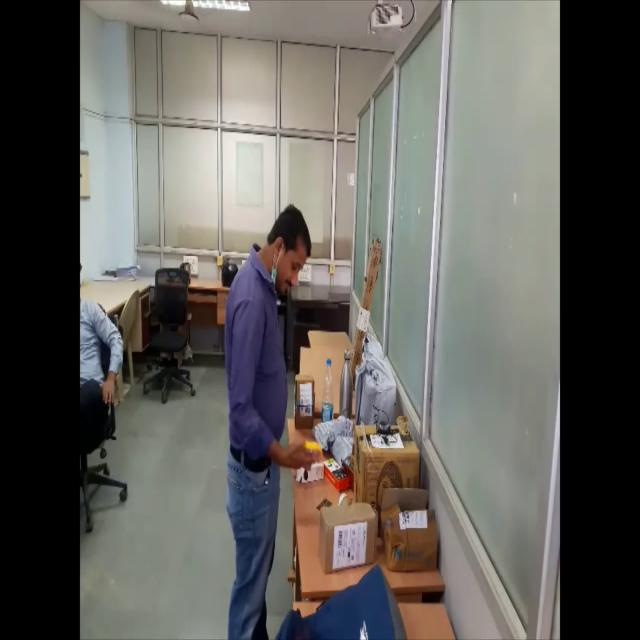shoplifting: (222, 198, 324, 640)
